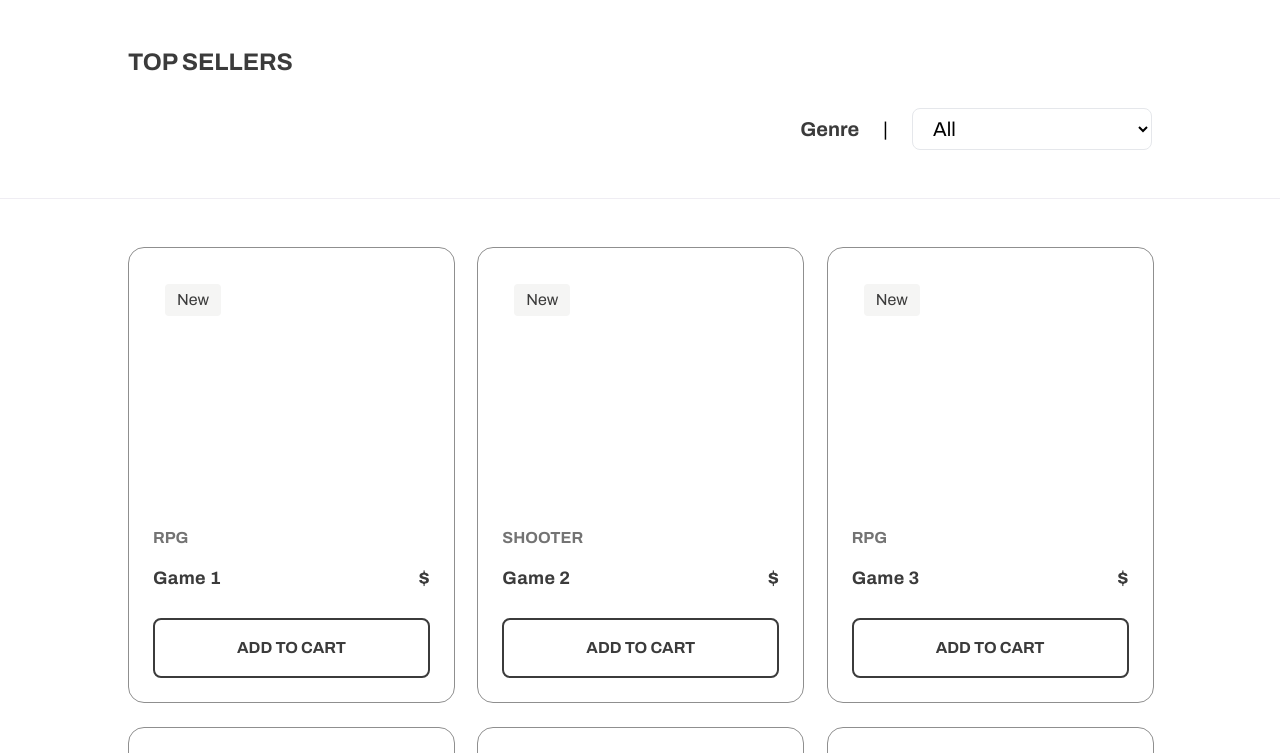
it: GamesSection Component › shows RPG games when user filters by RPG genre
Select "RPG" in the dropdown at (1032, 129), box x1=912 y1=108 x2=1152 y2=150
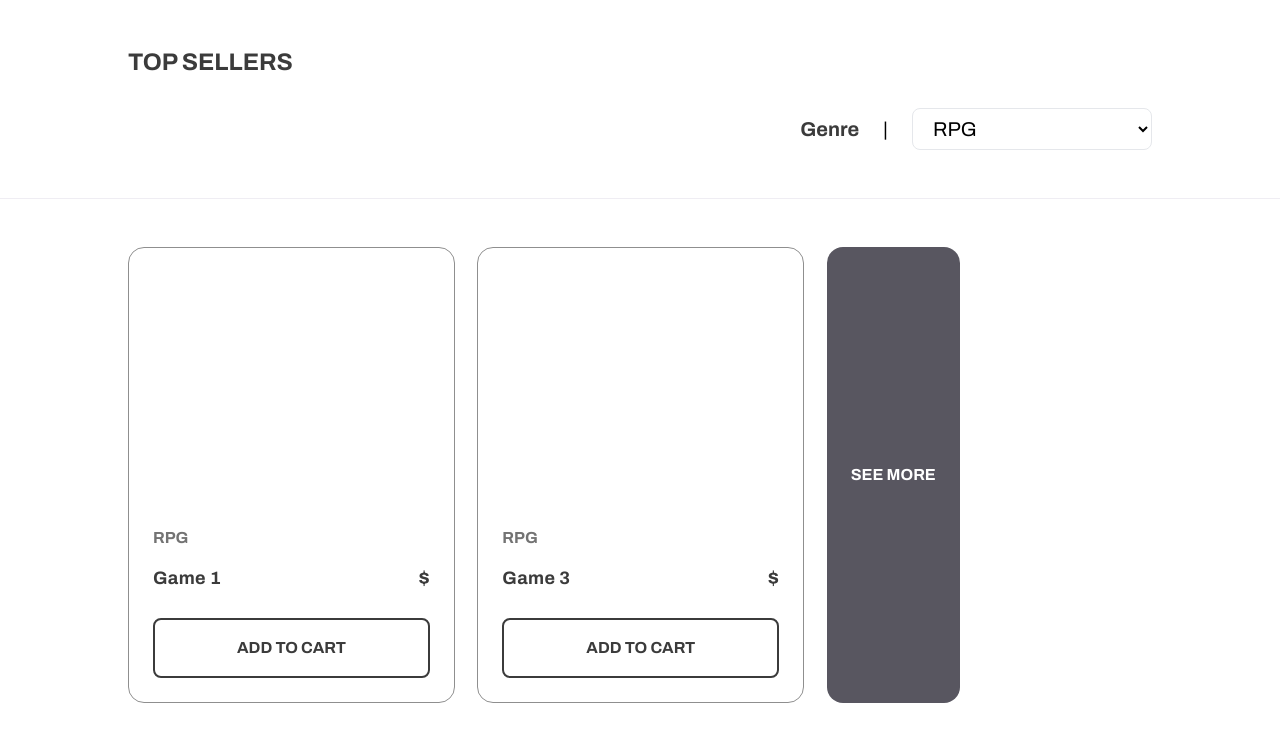
Expected: the number of headings "Game 1" is 2, x1=153 y1=568 x2=221 y2=588; x1=502 y1=568 x2=570 y2=588
